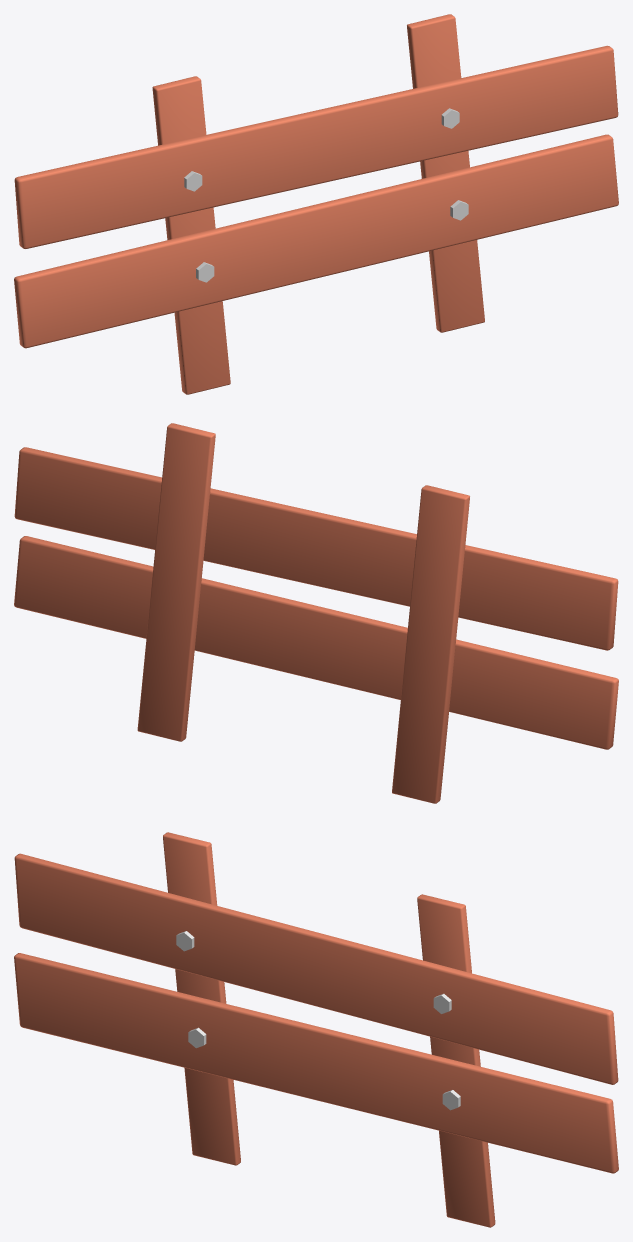
File: fence.glb
3 renders of one model, top to bottom at view 1: azimuth 30°, elevation 25°; view 2: azimuth 150°, elevation 25°; view 3: azimuth 330°, elevation 25°, orthographic.
Visible parts, largest first — view 1: Fence; view 2: Fence; view 3: Fence.
Boxes of the visible parts, x1,y1,x2,y2 form: Fence: (14,14,618,394); Fence: (14,423,618,803); Fence: (14,832,618,1227).
Size of the model in its own units: 2.01 by 1 by 0.0752.
